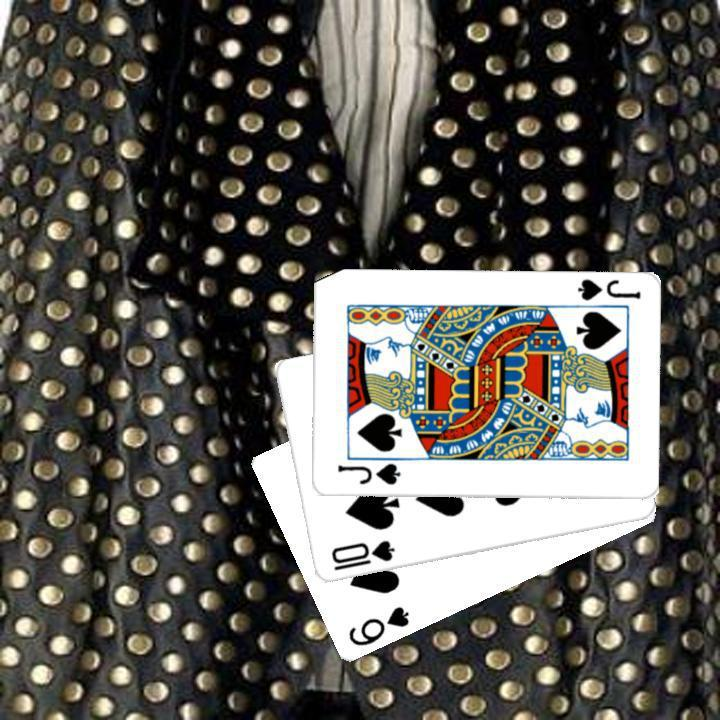10: (326, 536, 397, 574)
6: (343, 602, 411, 649)
J: (333, 460, 402, 488), (573, 276, 642, 303)
